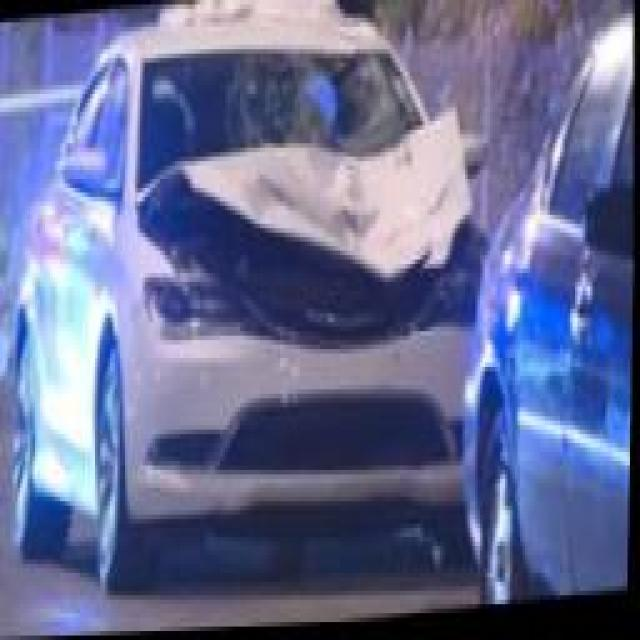replaceable: (173, 180, 508, 358), (169, 70, 425, 158)
